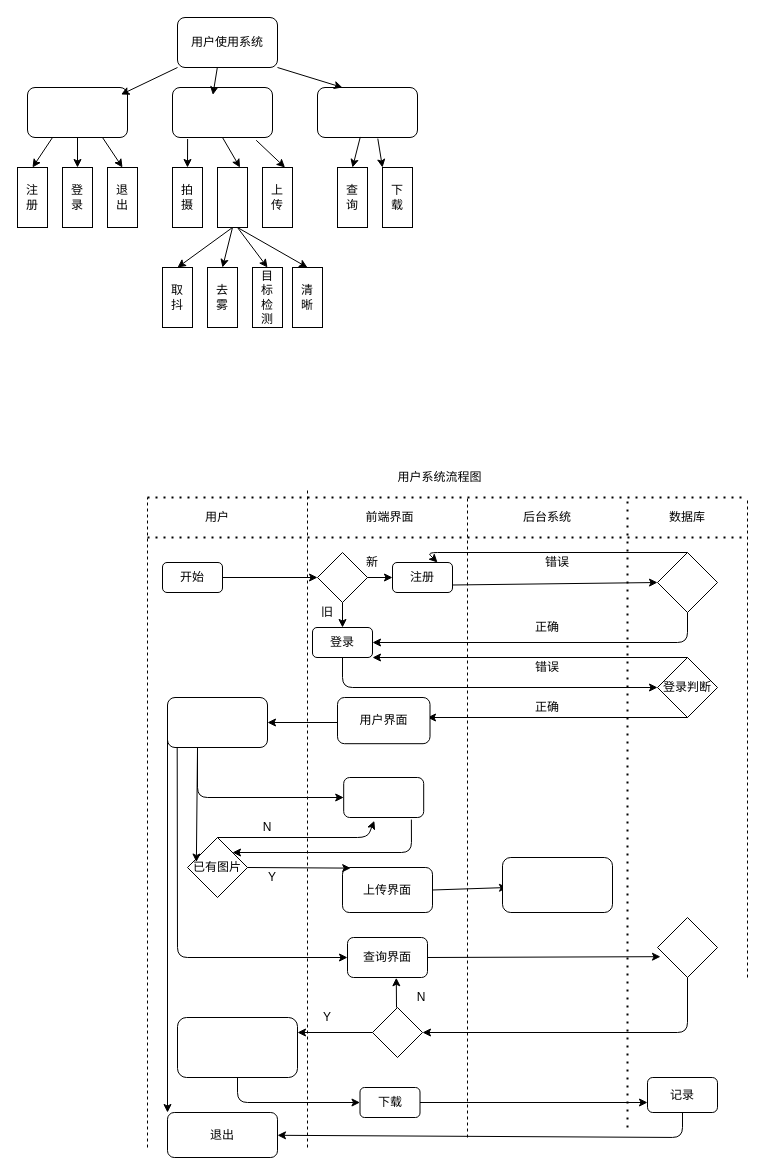
Some shapes in this 767 by 1175 pixel diagram are drawn without their labels. The shapes that lost their labels are listed below. From the top down, each one's centre as x and y in pixels, then its label:
At (x=77, y=112): "用户信息模块".
At (x=222, y=112): "用户使用模块".
At (x=367, y=112): "用户查询模块".
At (x=232, y=197): "预处理".
At (x=342, y=577): "新/旧".
At (x=687, y=582): "注册结果".
At (x=217, y=722): "用户点击".
At (x=383, y=797): "拍摄界面".
At (x=557, y=884): "后台获取图片".
At (x=687, y=947): "信息检索".
At (x=237, y=1047): "结果".
At (x=397, y=1032): "有无信息".
